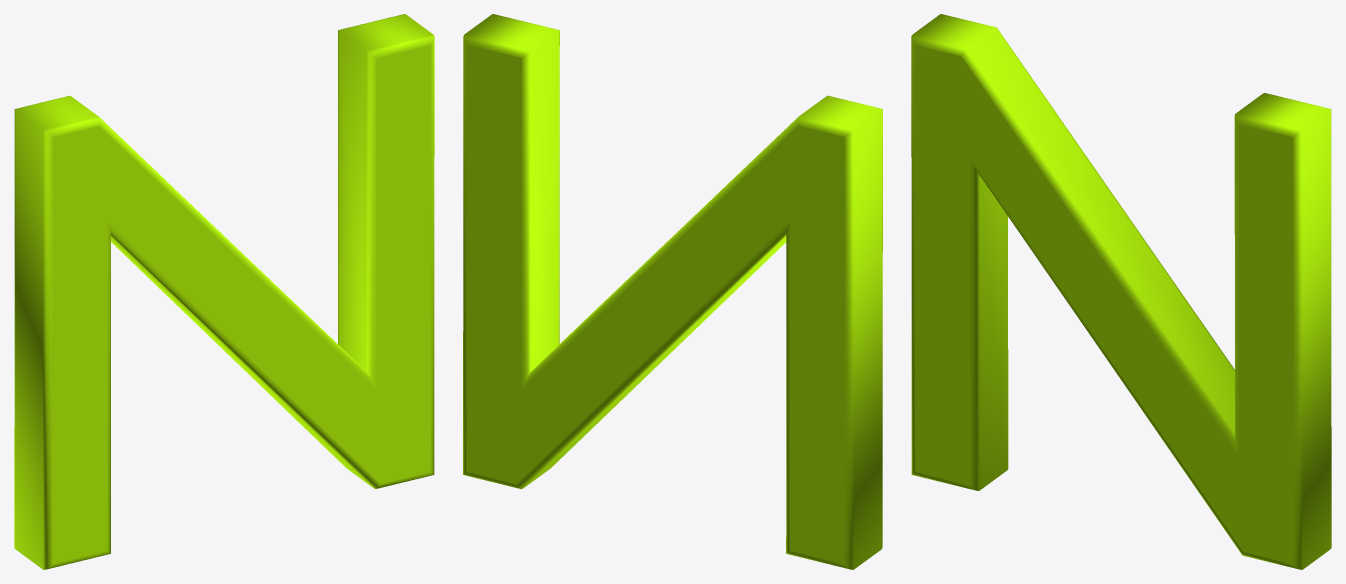
The picture shows the model from 3 angles, left to right: view 1: azimuth 30°, elevation 25°; view 2: azimuth 150°, elevation 25°; view 3: azimuth 330°, elevation 25°; orthographic projection.
Parts seen in each view (by area): view 1: NN; view 2: NN; view 3: NN.
Part boxes in pixels (left/top/right/bottom): NN: left=14, top=14, right=434, bottom=569; NN: left=463, top=14, right=882, bottom=569; NN: left=911, top=14, right=1331, bottom=569.
Bounding box in the file's own units: 0.4643 × 0.5 × 0.072.
